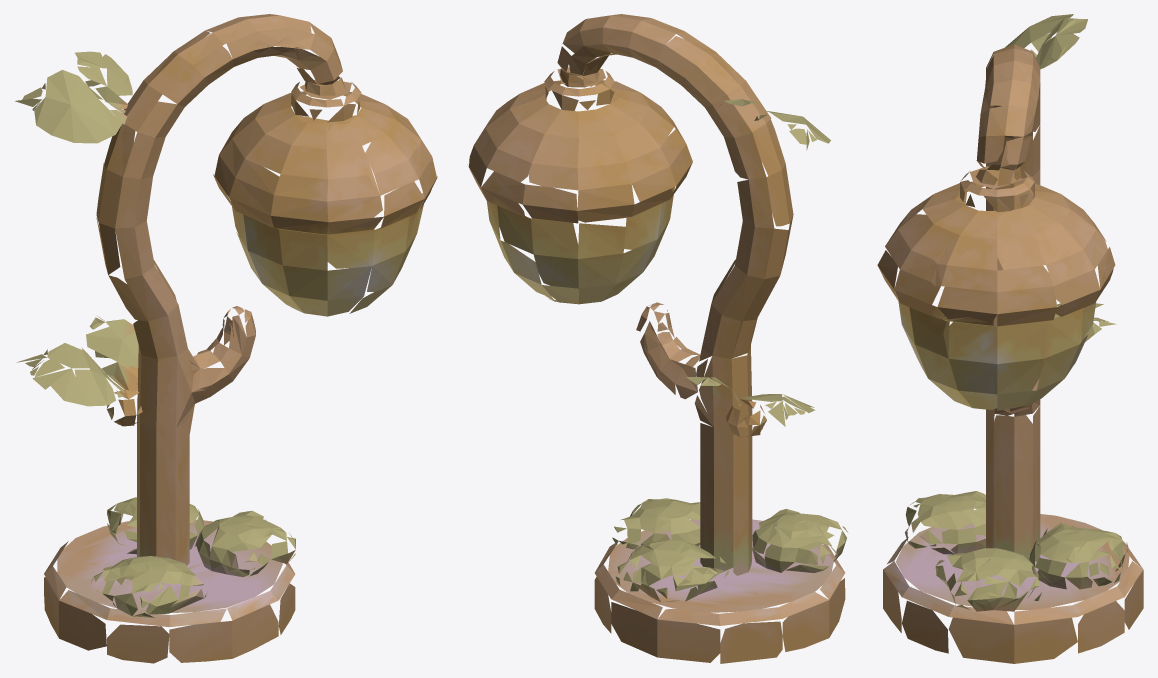
Rendered from g_w_acorn.glb.
The picture shows the model from 3 angles, left to right: view 1: azimuth 30°, elevation 25°; view 2: azimuth 150°, elevation 25°; view 3: azimuth 270°, elevation 25°; orthographic projection. The views are drawn at different scales.
Visible parts, largest first — view 1: geometry_0; view 2: geometry_0; view 3: geometry_0.
Boxes of the visible parts, x1,y1,x2,y2 form: geometry_0: (15, 14, 437, 663); geometry_0: (467, 14, 847, 663); geometry_0: (877, 14, 1143, 663).
Bounding box in the file's own units: 0.1133 × 0.1689 × 0.0693.
